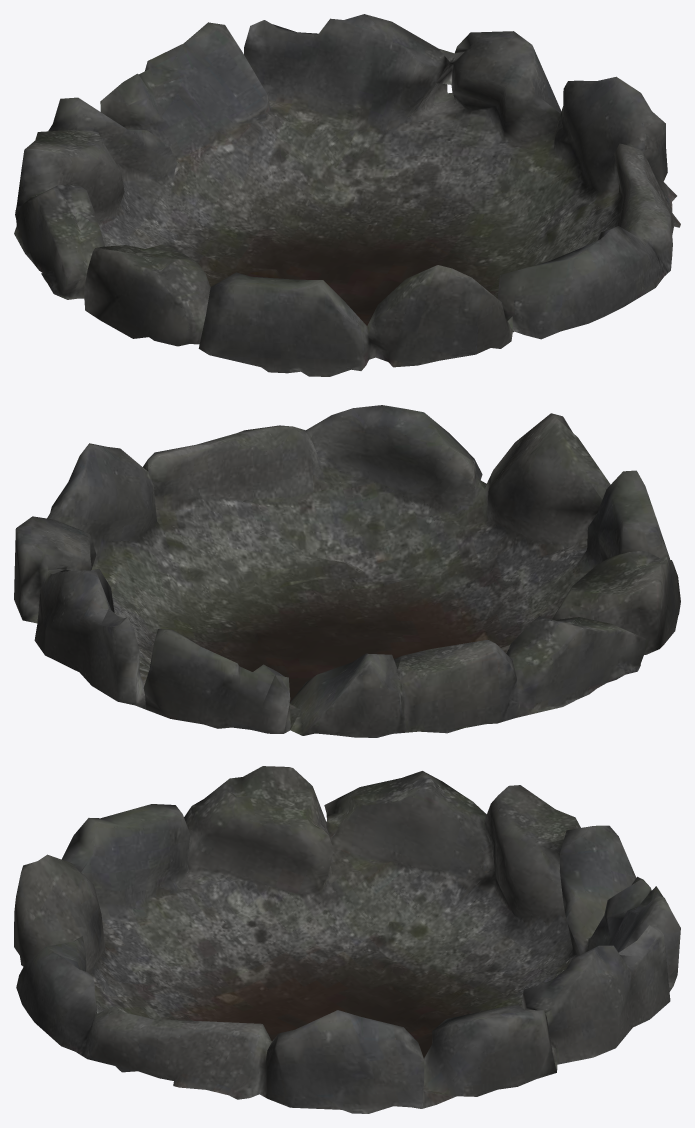
File: ph_fire_pit.glb
3 renders of one model, top to bottom at view 1: azimuth 30°, elevation 25°; view 2: azimuth 150°, elevation 25°; view 3: azimuth 270°, elevation 25°, orthographic.
Parts seen in each view (by area): view 1: fire_pit; view 2: fire_pit; view 3: fire_pit.
Boxes of the visible parts, x1,y1,x2,y2 form: fire_pit: (14, 14, 680, 376); fire_pit: (14, 405, 680, 737); fire_pit: (14, 766, 680, 1113).
Bounding box in the file's own units: 1.45 × 0.3841 × 1.43.
Materials: 1 (1 with a texture image).
